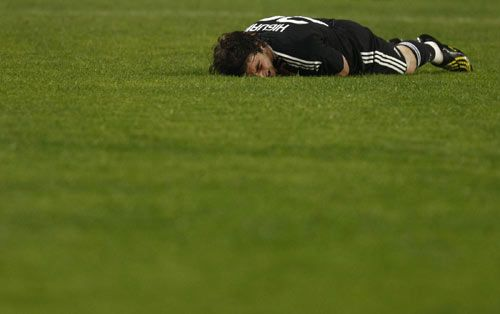fall: (202, 1, 472, 85)
